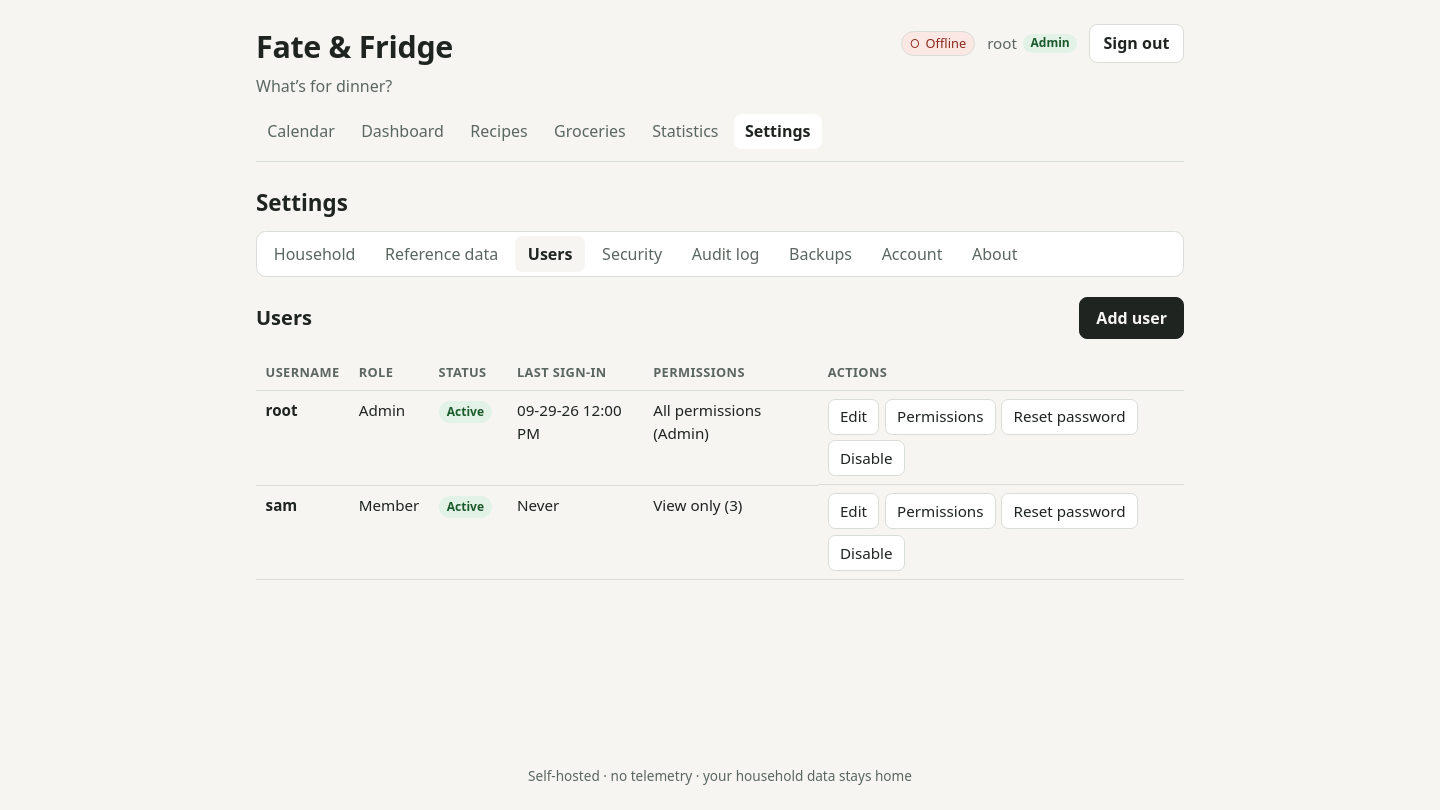
users section › surfaces LAST_ADMIN_PROTECTED when demoting the last admin
Click the button with aria-label "Edit root" at (854, 417), box [828, 399, 879, 435]
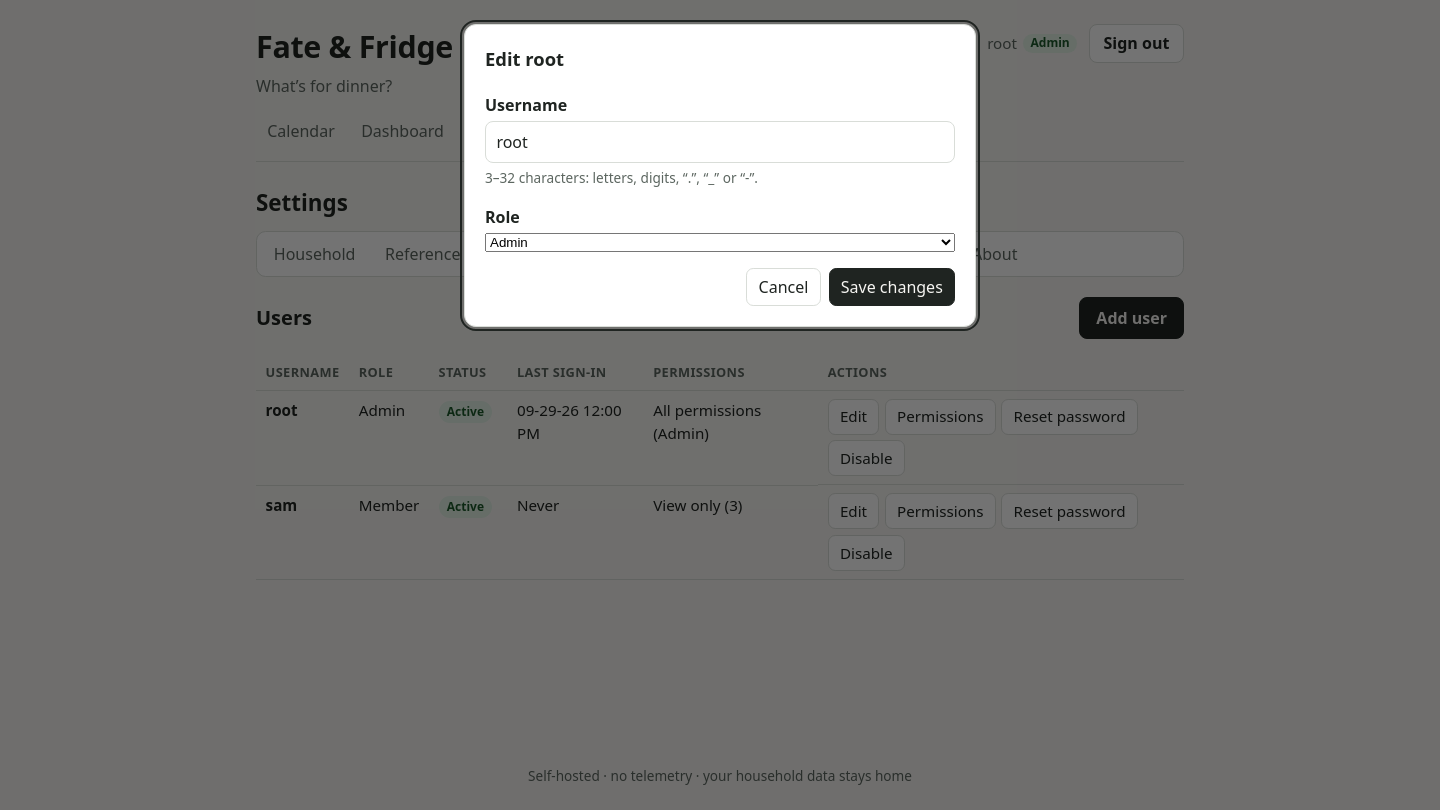
Select "Member" in the dropdown labelled "Role" at (720, 243), box [485, 233, 955, 252]
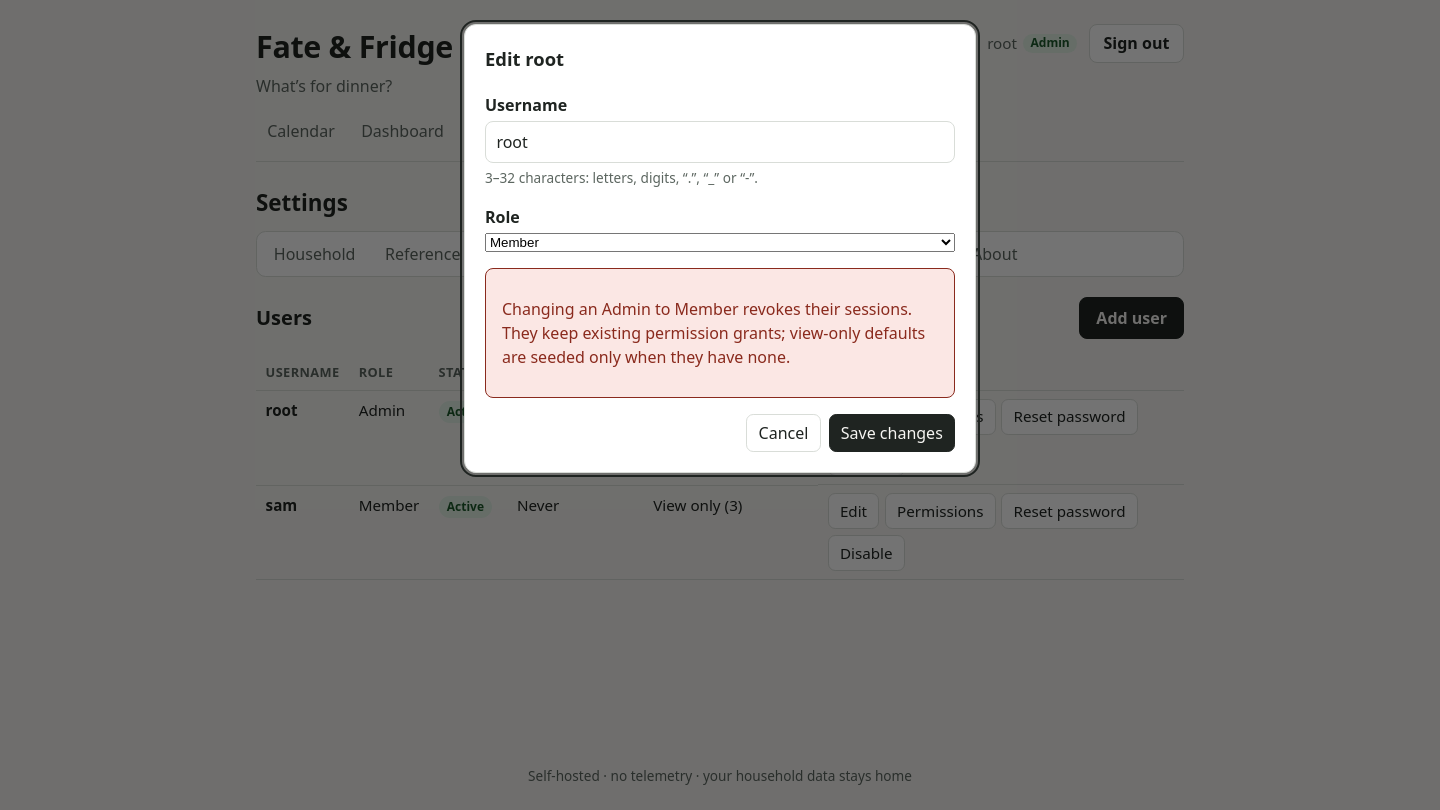
Expected: the text "revokes their sessions" is shown, [502, 298, 925, 368]
Click the button "Save changes" at (892, 433), box [829, 414, 955, 452]
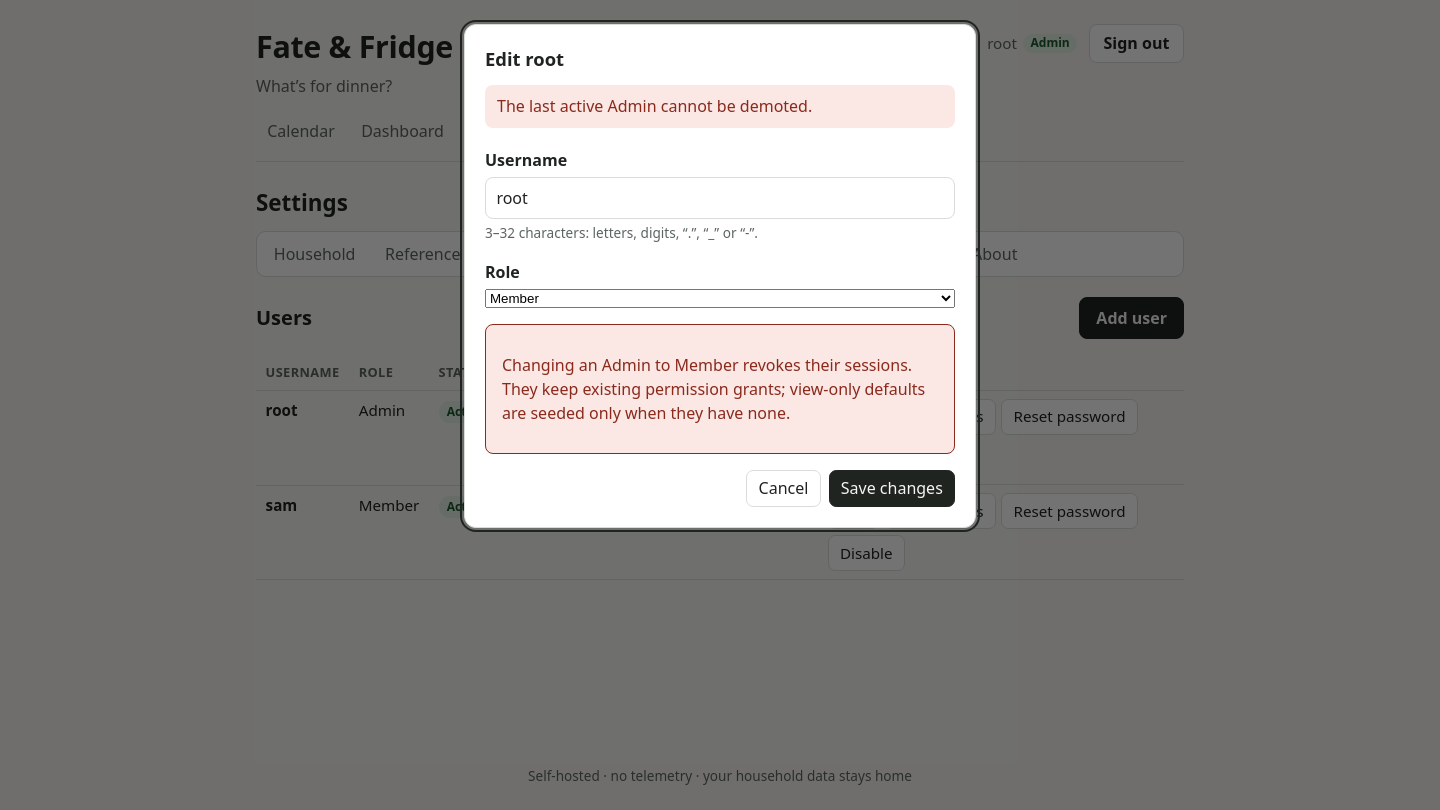
Expected: the message reads "The last active Admin cannot be demoted.", [497, 95, 812, 117]
